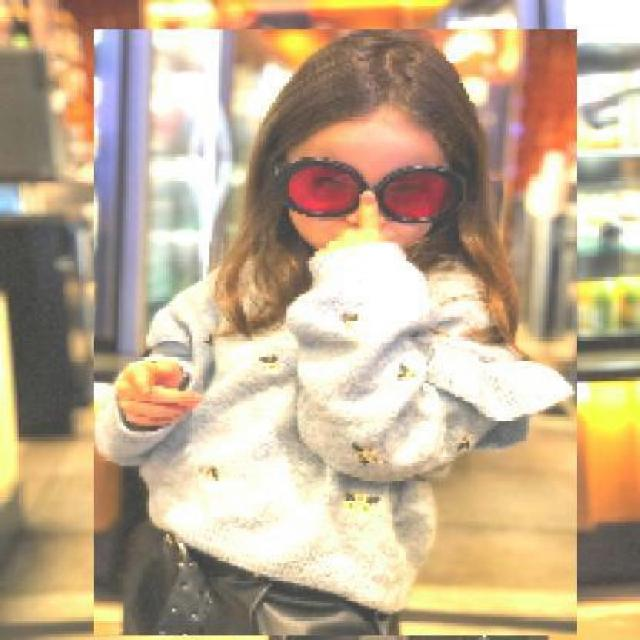child: (92, 29, 577, 637)
